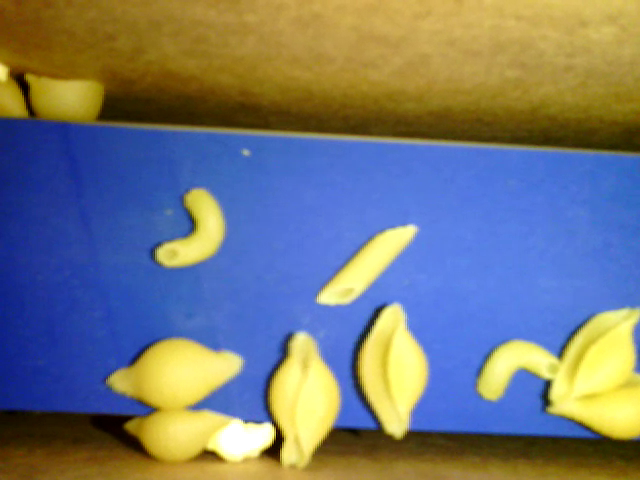elbow: (152, 185, 225, 270), (475, 339, 560, 402)
penne: (314, 223, 418, 305)
shell: (105, 332, 245, 412), (262, 329, 338, 470), (357, 300, 428, 440), (549, 309, 639, 406), (546, 375, 638, 444), (122, 409, 229, 467), (22, 68, 108, 124)
